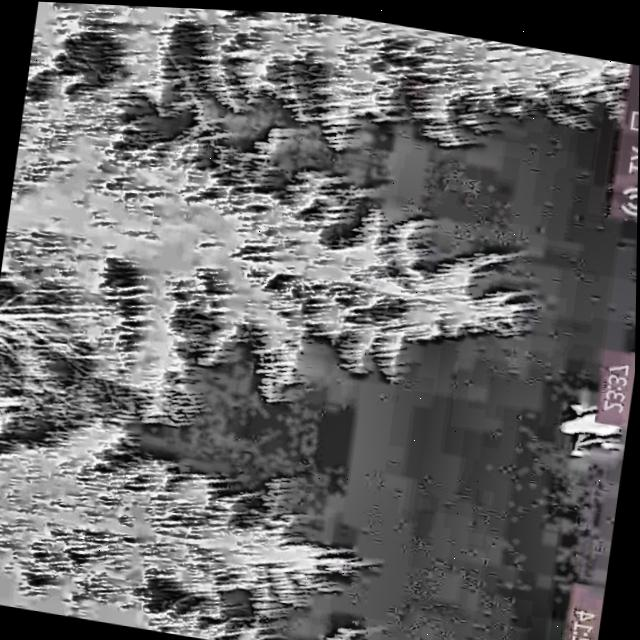drone: (555, 395, 630, 460)
